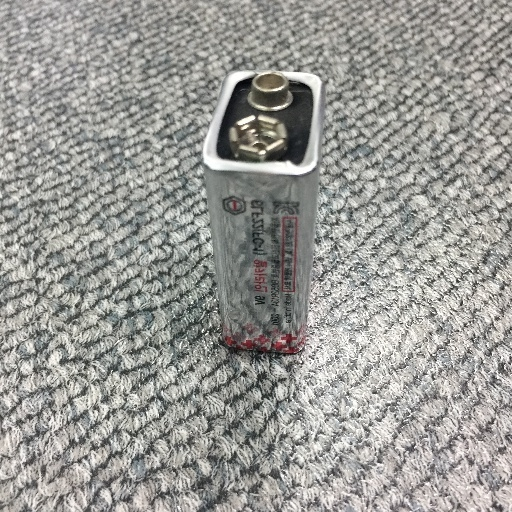Battery_3: (176, 51, 354, 370)
